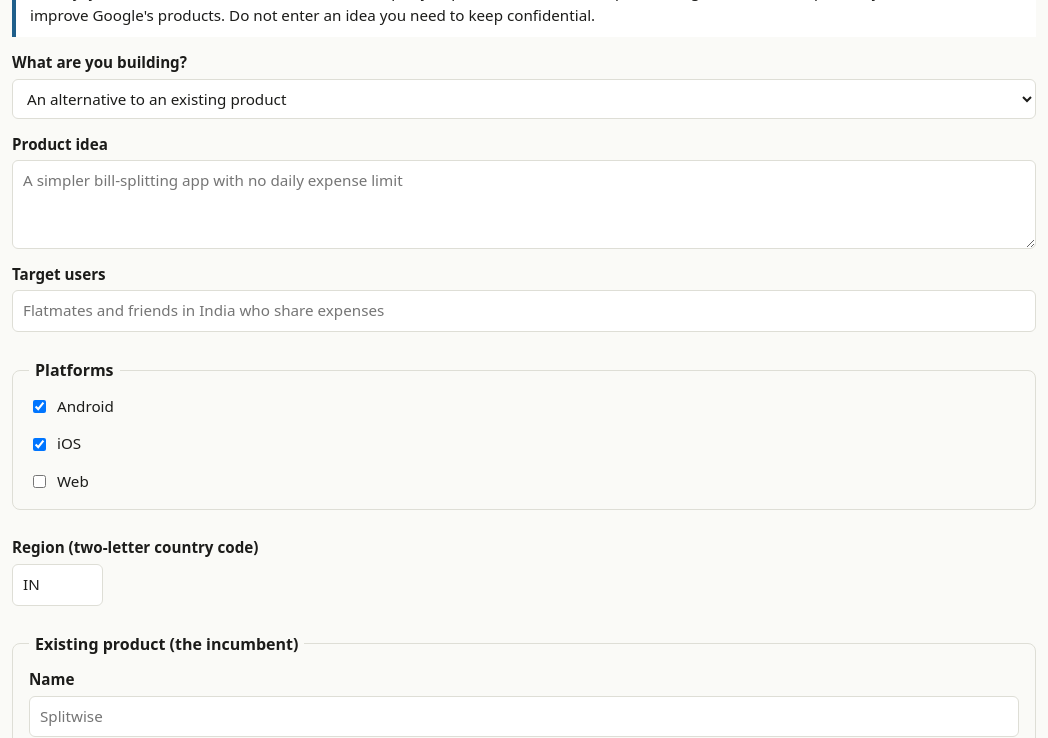
Scenario: the input form › shows why a run could not be started
Type "x" into the text box labelled "Product idea" at point(524, 205), box [12,160,1036,249]
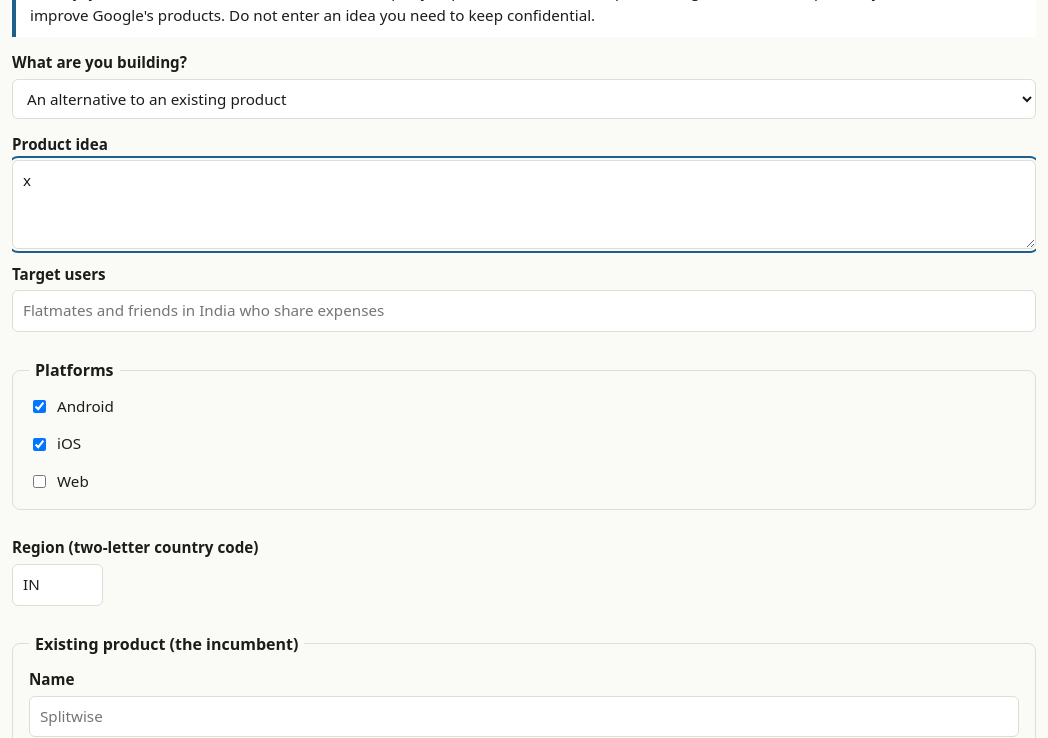
Type "y" into the field labelled "Target users" at point(524, 311), box [12,290,1036,332]
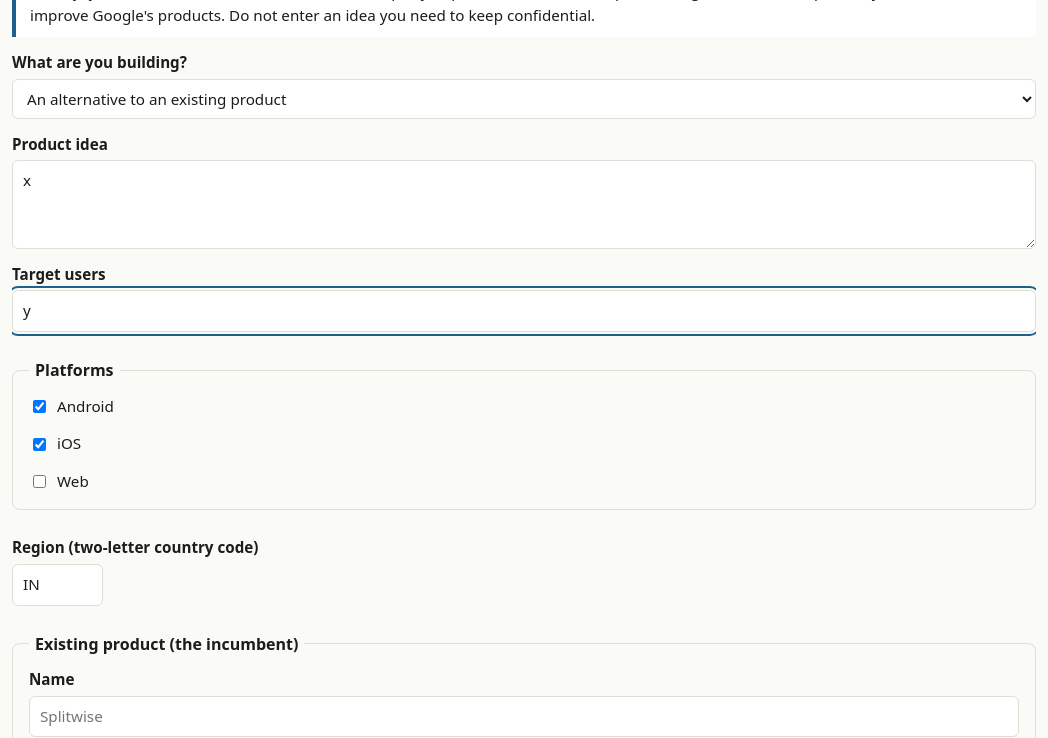
Type "z" into the field labelled "Name" at point(524, 717), box [29,696,1019,737]
(page scrolled)
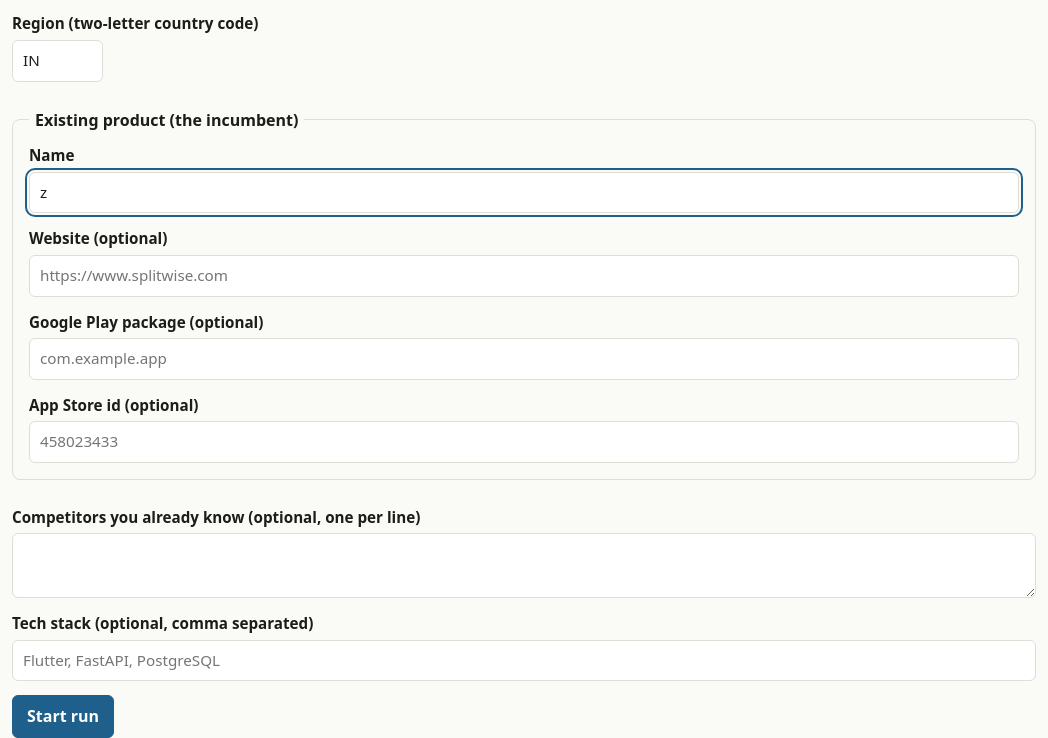
Click the button "Start run" at point(63, 717), box [12,695,114,737]
(page scrolled)
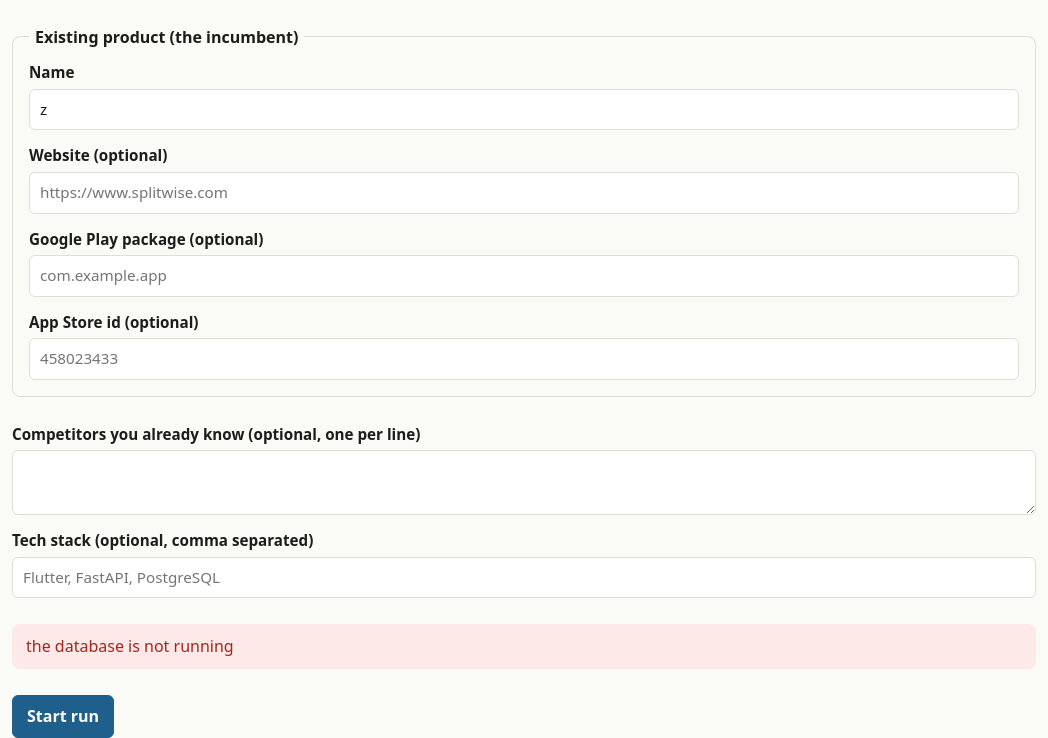
Expected: the text "the database is not running" is shown, [12,624,1036,669]
